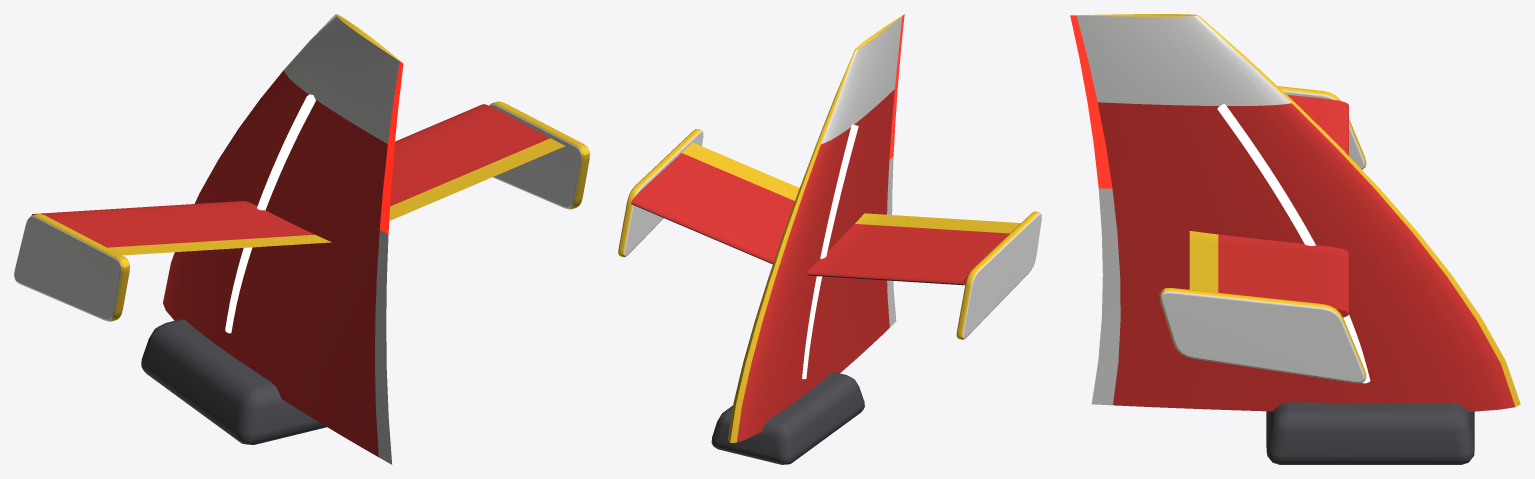
File: spoiler_fin.glb
The picture shows the model from 3 angles, left to right: view 1: azimuth 30°, elevation 25°; view 2: azimuth 150°, elevation 25°; view 3: azimuth 270°, elevation 25°; orthographic projection. The views are drawn at different scales.
Visible parts, largest first — view 1: spoiler_fin; view 2: spoiler_fin; view 3: spoiler_fin.
Part boxes in pixels (x1,y1,x2,y2): spoiler_fin: [14, 14, 589, 464]; spoiler_fin: [618, 14, 1041, 464]; spoiler_fin: [1070, 14, 1520, 464].
Size of the model in its own units: 0.48 by 0.44 by 0.42.
